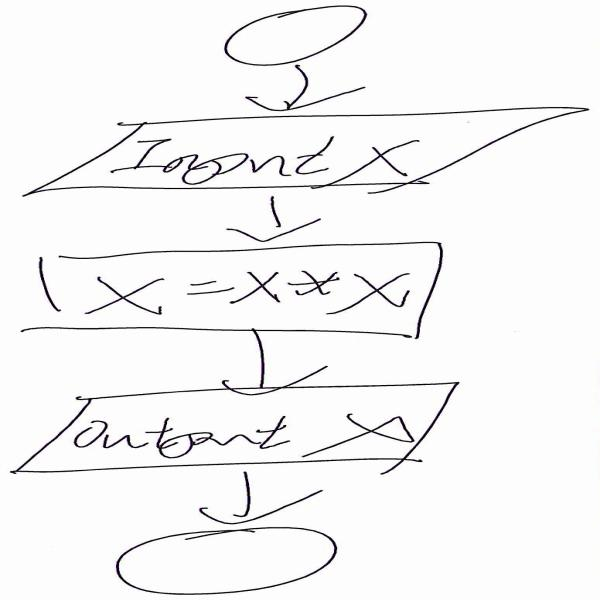arrow: (245, 63, 379, 118), (228, 329, 324, 402), (202, 469, 315, 524), (220, 193, 332, 244)
data: (4, 107, 594, 195), (0, 374, 474, 472)
process: (29, 240, 449, 336)
terminator: (106, 524, 354, 598), (220, 0, 385, 70)
text: (73, 410, 418, 458), (91, 270, 420, 320), (117, 134, 432, 179)
